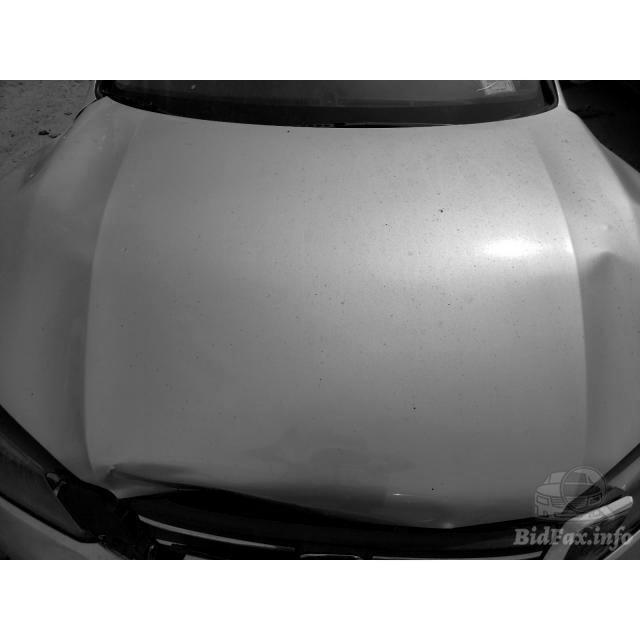bonnet-dent: (1, 191, 512, 557), (326, 110, 639, 559)
